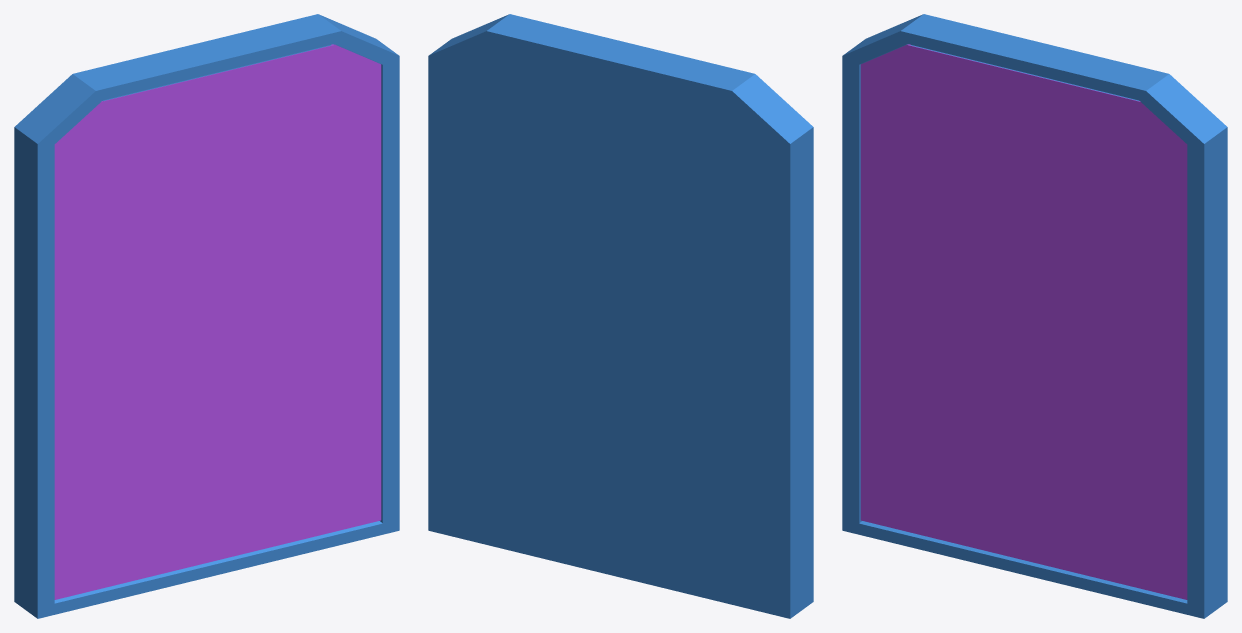
The model's file is 绕柱移动的镜子1.fbx.
3 renders of one model, left to right at view 1: azimuth 30°, elevation 25°; view 2: azimuth 150°, elevation 25°; view 3: azimuth 330°, elevation 25°, orthographic.
Visible parts, largest first — view 1: main.001, main; view 2: main; view 3: main.001, main.
Boxes of the visible parts, <box> form: main.001: <box>54,44,381,599</box>; main: <box>14,14,399,618</box>; main: <box>428,14,813,618</box>; main.001: <box>860,44,1187,599</box>; main: <box>842,14,1227,618</box>.
Bounding box in the file's own units: 140 × 190 × 15.64.
